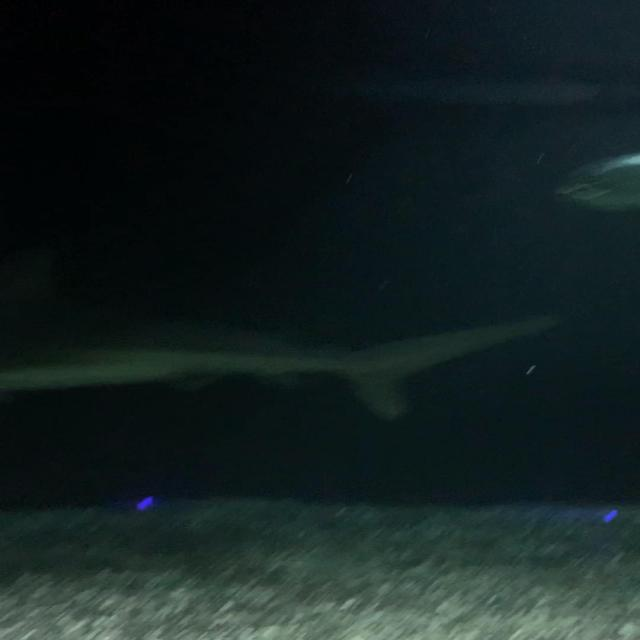fish: (554, 153, 640, 226)
shark: (0, 308, 581, 418)
